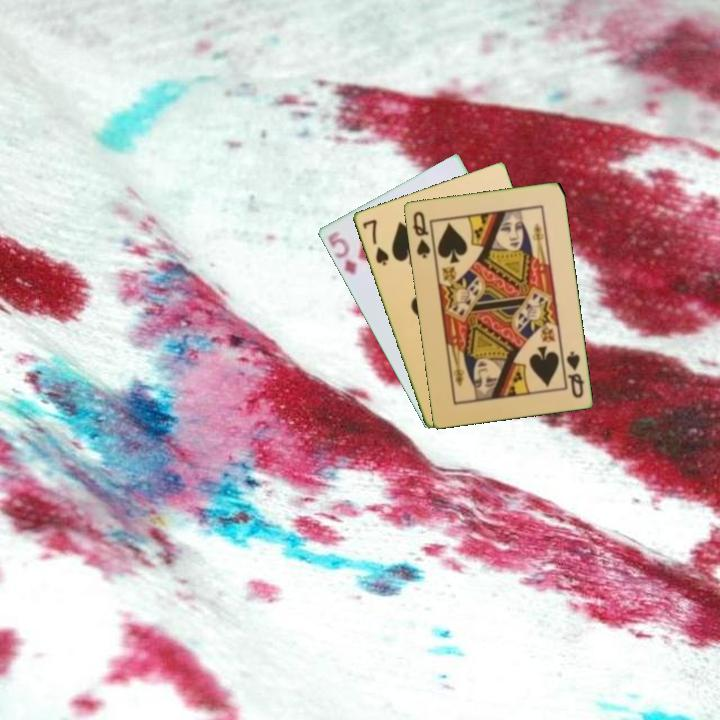5d: (324, 227, 359, 278)
7s: (359, 215, 392, 268)
Qs: (559, 347, 586, 401), (409, 207, 433, 261)
